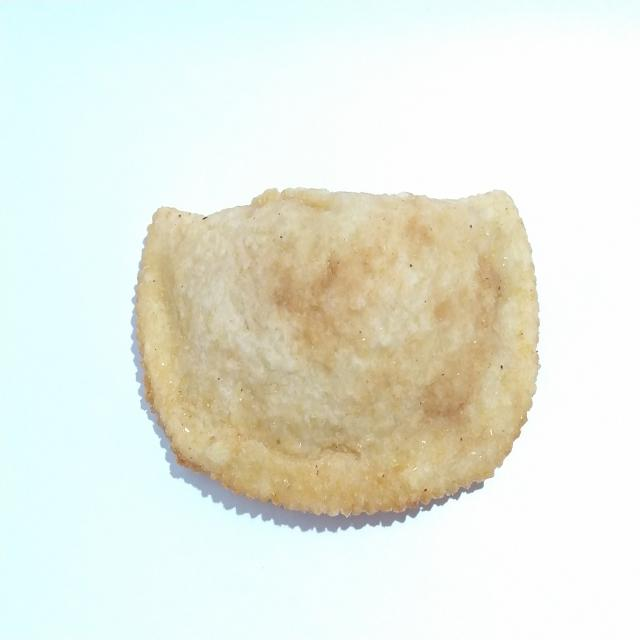Food: (118, 173, 544, 544)
